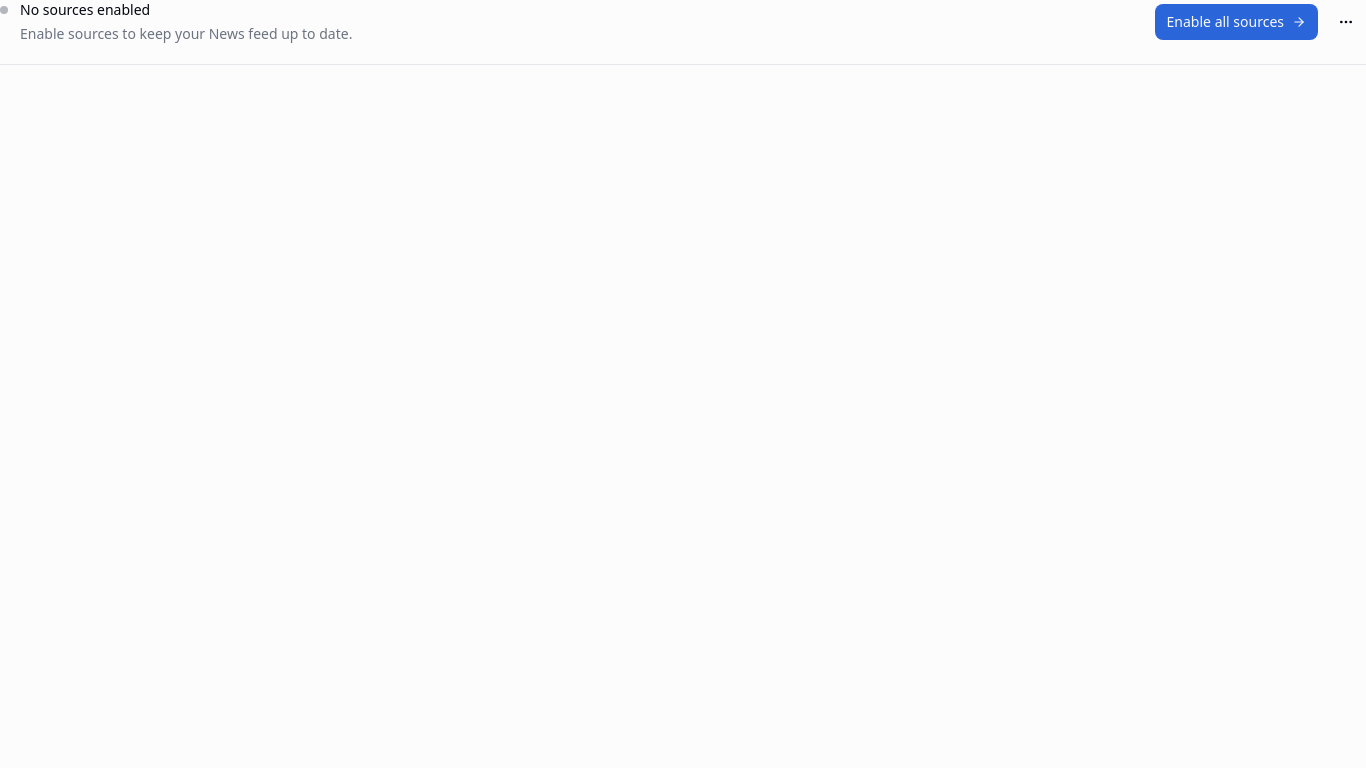
News source actions › shows one setup action and reviews exclusions before applying the captured operation
Later steps or results of the test are not shown.
Click the button "Enable all sources" at (1236, 22), box x1=1155 y1=4 x2=1318 y2=40
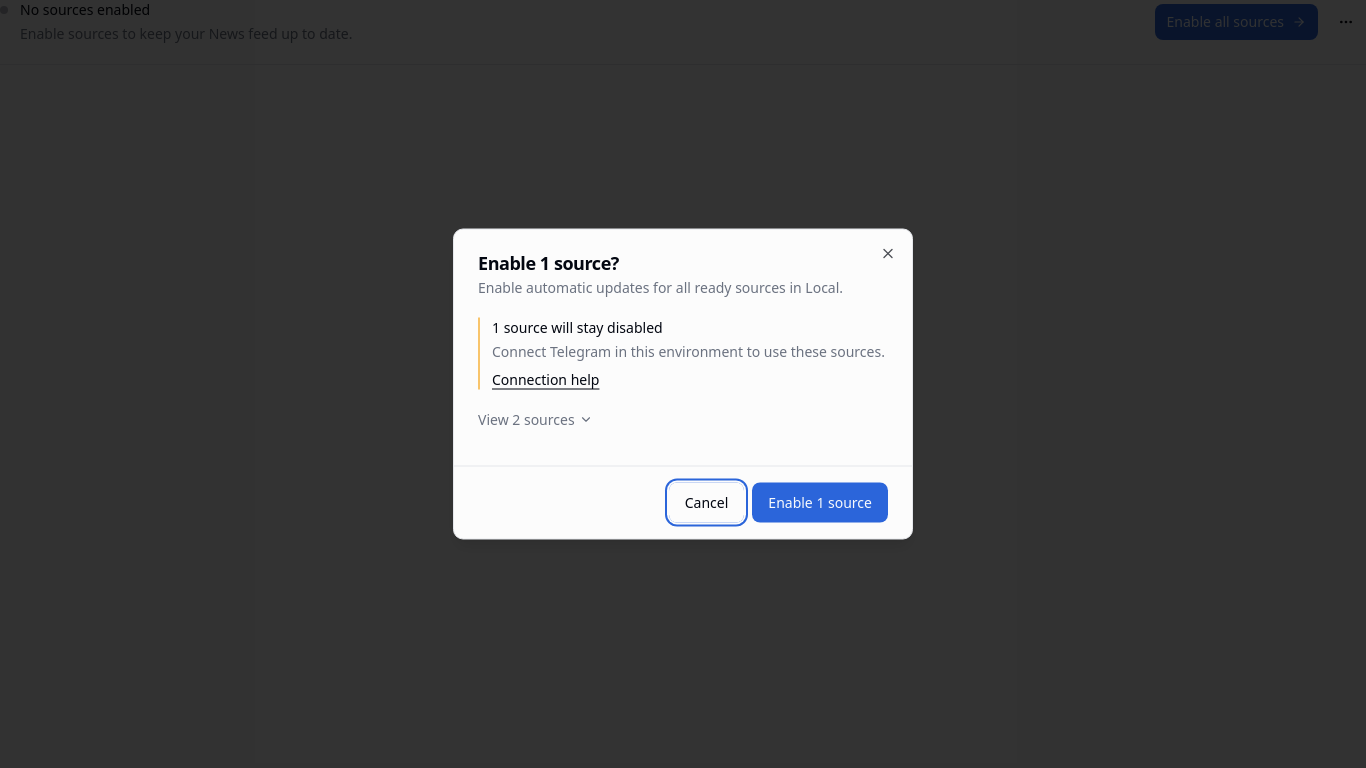
Expected: the text "1 source will stay disabled" is shown, x1=492 y1=318 x2=663 y2=336
Expected: the text "Connect Telegram in this environment to use these sources." is shown, x1=492 y1=342 x2=888 y2=362
